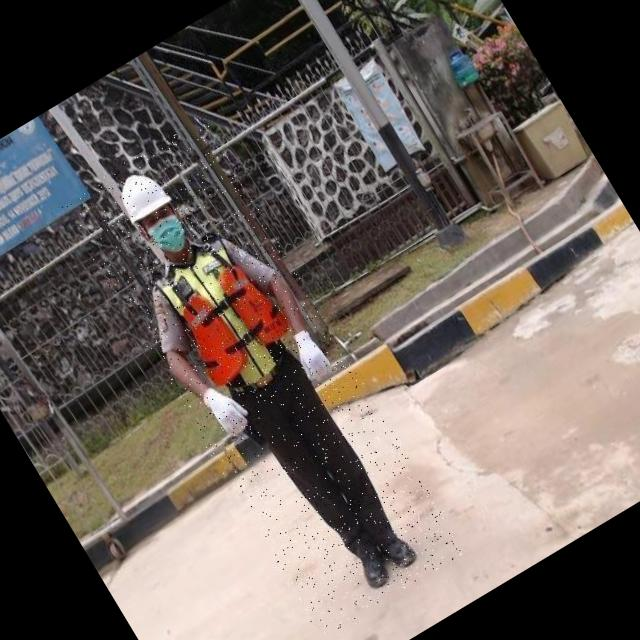hard_hat: (108, 162, 176, 230)
safety_vest: (144, 220, 310, 406)
vehicle: (58, 115, 466, 639)
work_boots: (346, 534, 398, 594), (374, 522, 424, 578)
